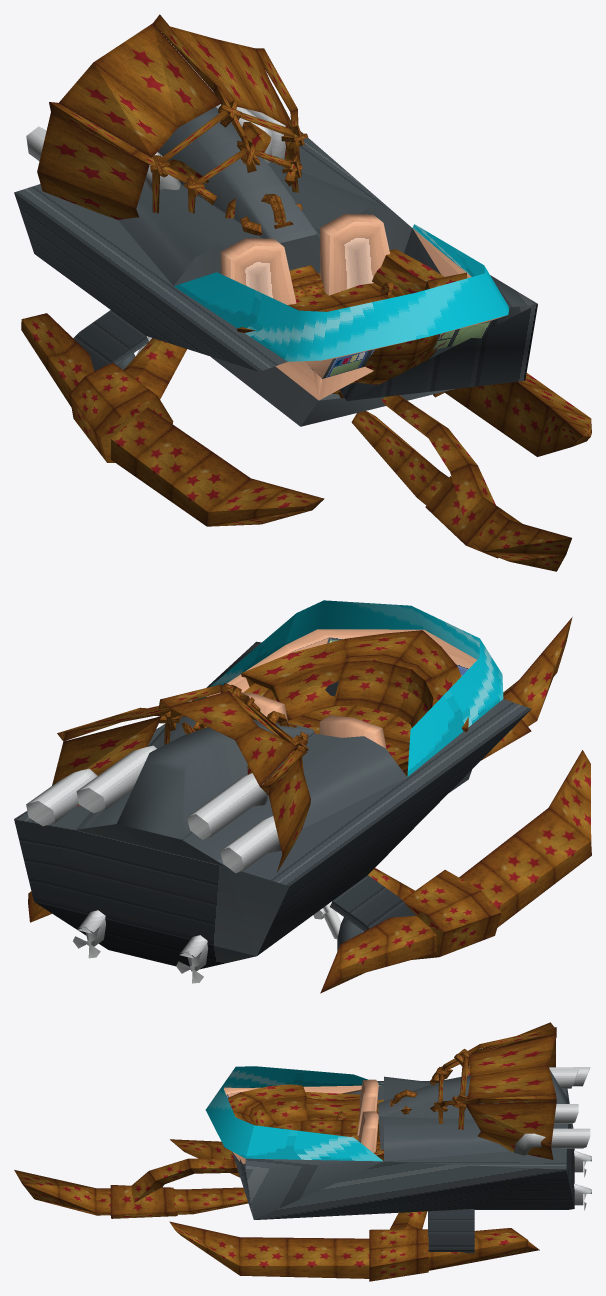
The model's file is fishermans-boat-lod0.glb.
3 renders of one model, top to bottom at view 1: azimuth 30°, elevation 25°; view 2: azimuth 150°, elevation 25°; view 3: azimuth 270°, elevation 25°, orthographic. The views are drawn at different scales.
Parts seen in each view (by area): view 1: knigh_vShape, fishermans-boat-lod0; view 2: knigh_vShape, fishermans-boat-lod0; view 3: knigh_vShape, fishermans-boat-lod0.
Part boxes in pixels (bbox=[...]): knigh_vShape: bbox=[14, 80, 537, 426]; fishermans-boat-lod0: bbox=[21, 14, 591, 571]; knigh_vShape: bbox=[14, 600, 531, 983]; fishermans-boat-lod0: bbox=[28, 617, 591, 993]; knigh_vShape: bbox=[205, 1066, 591, 1253]; fishermans-boat-lod0: bbox=[14, 1022, 556, 1281].
Size of the model in its own units: 13.72 by 10.19 by 26.27.
Materials: 3 (3 with a texture image).
